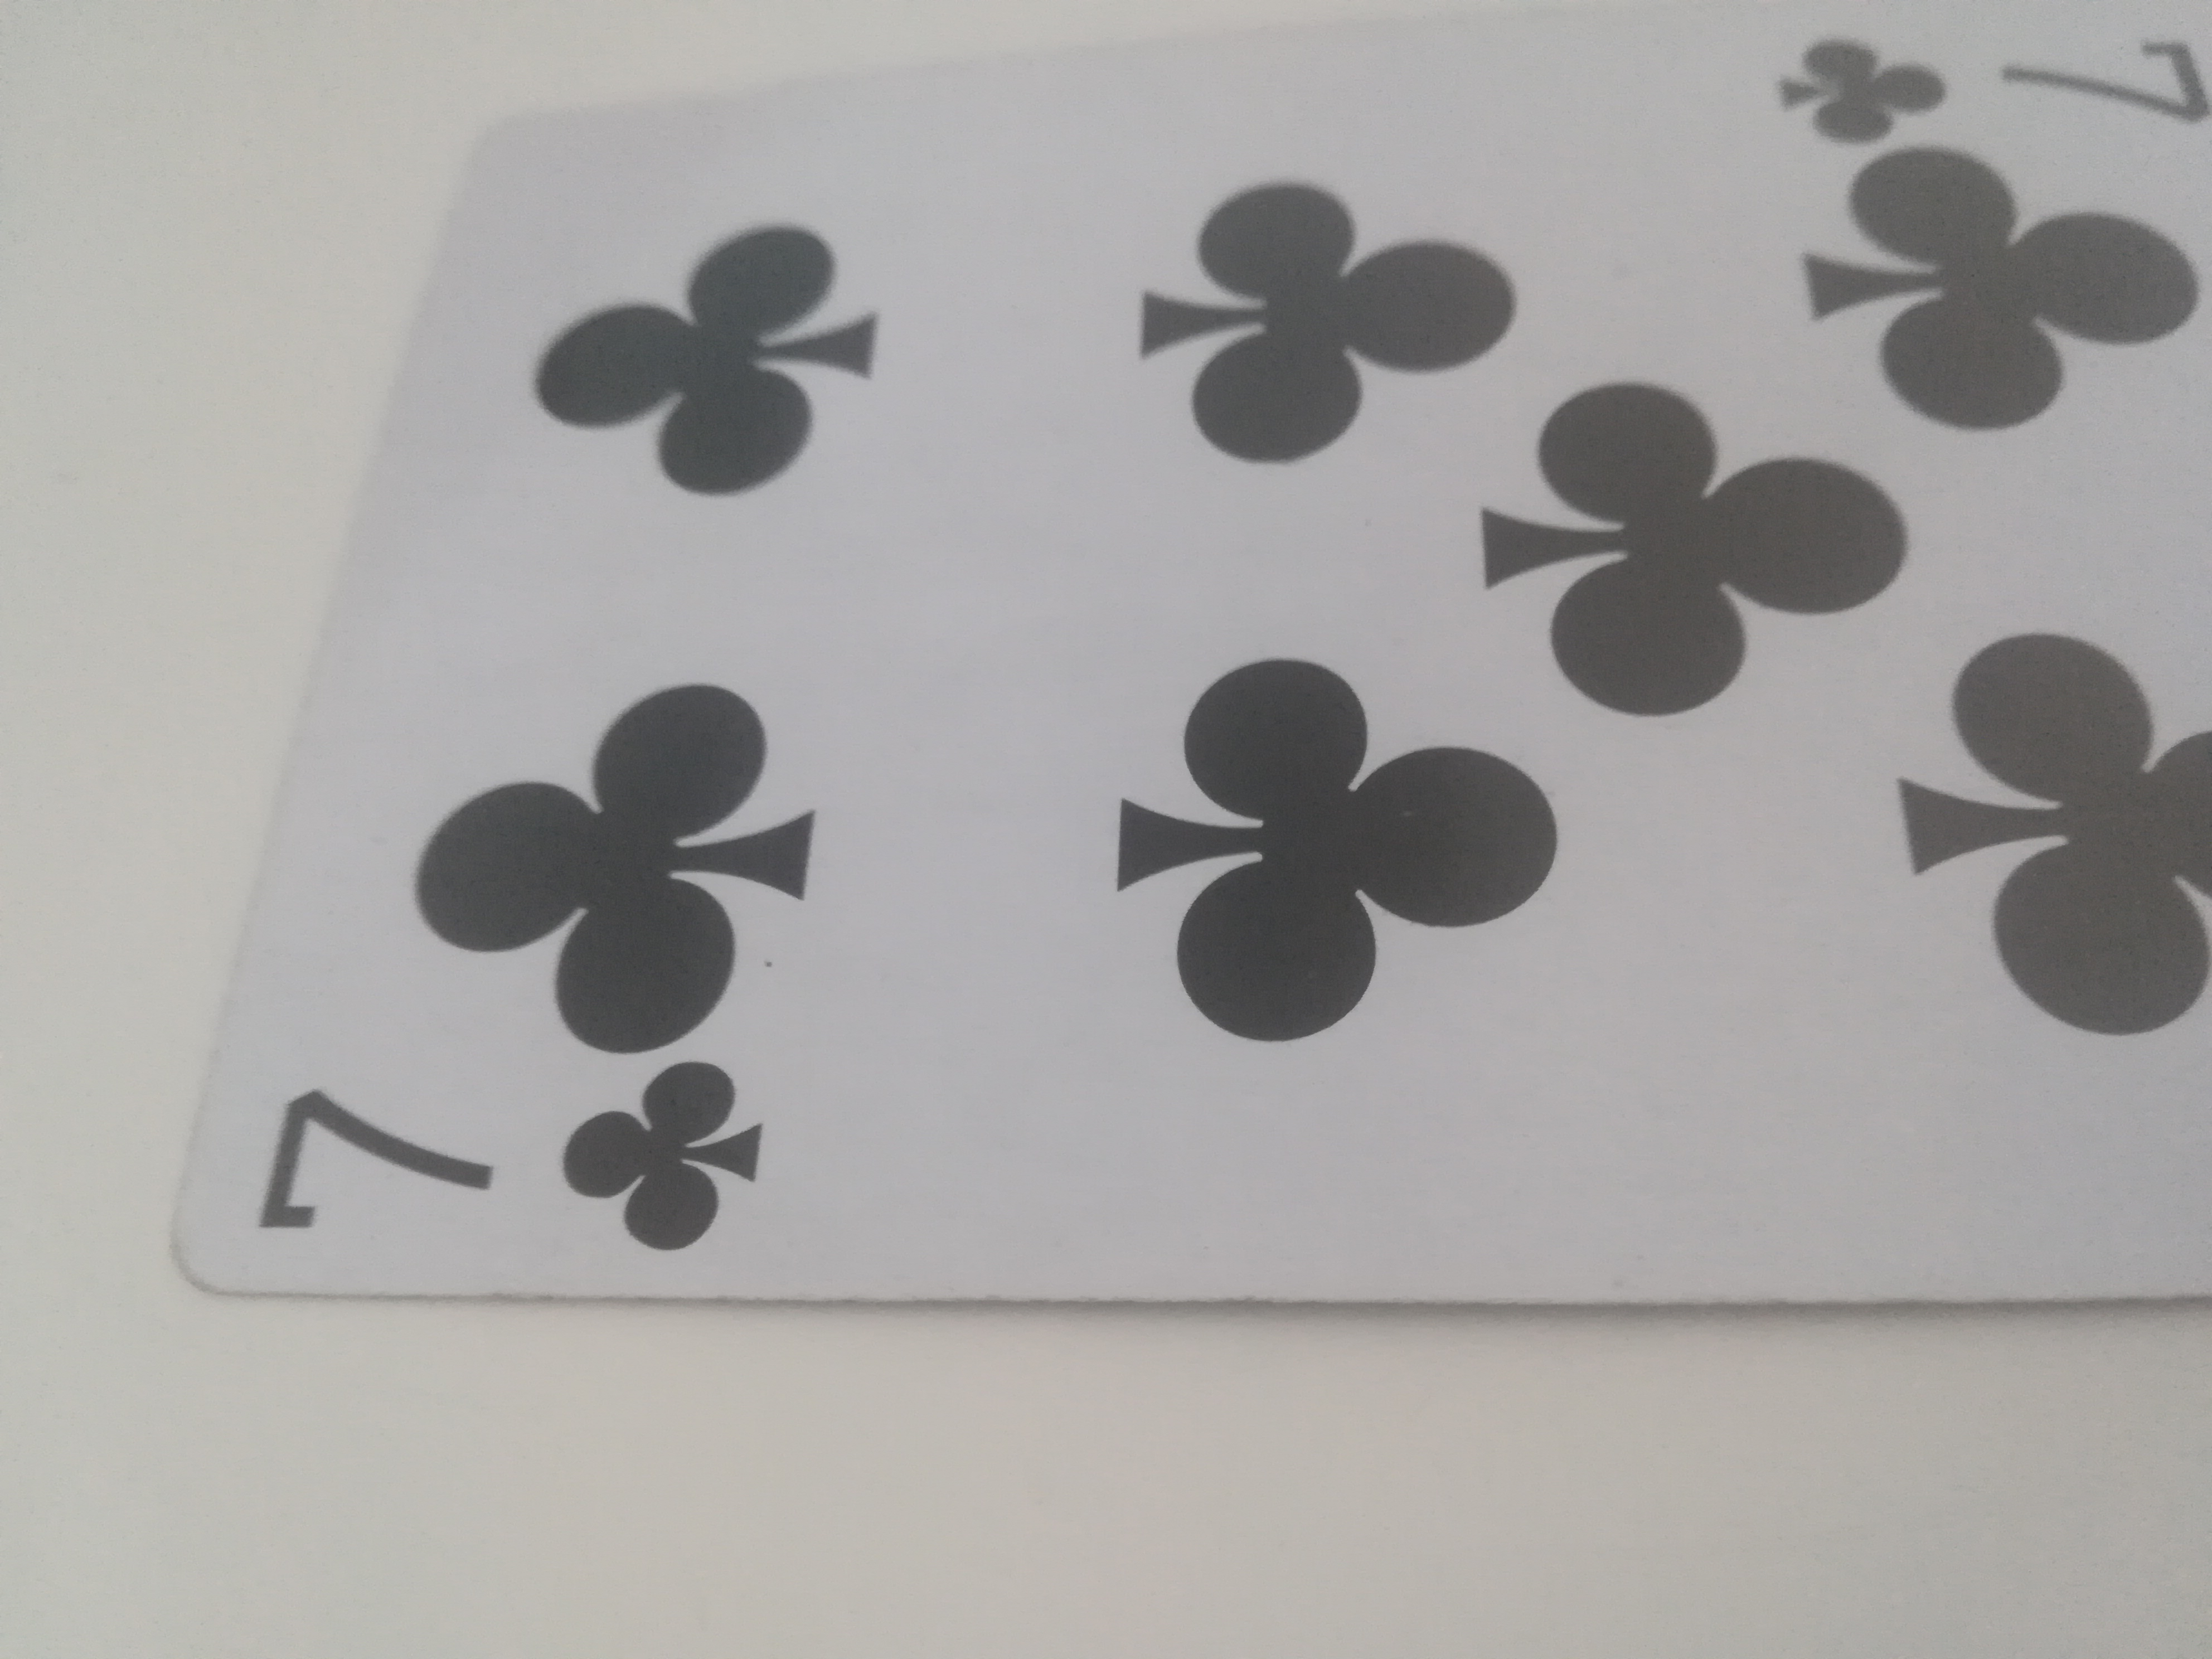7C: (160, 16, 2212, 1331)
